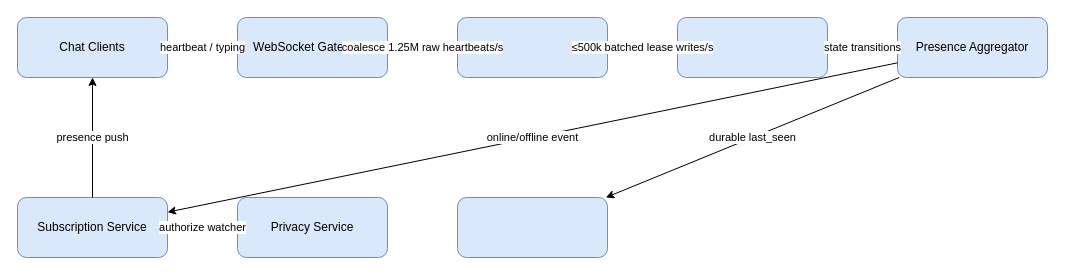
Some shapes in this 1065 by 275 pixel diagram are drawn without their labels. Each missing label, with the box of its shape:
Heartbeat Coalescer: (456, 16, 608, 78)
Last Seen Store: (456, 196, 608, 258)
Presence Store: (676, 16, 828, 78)
